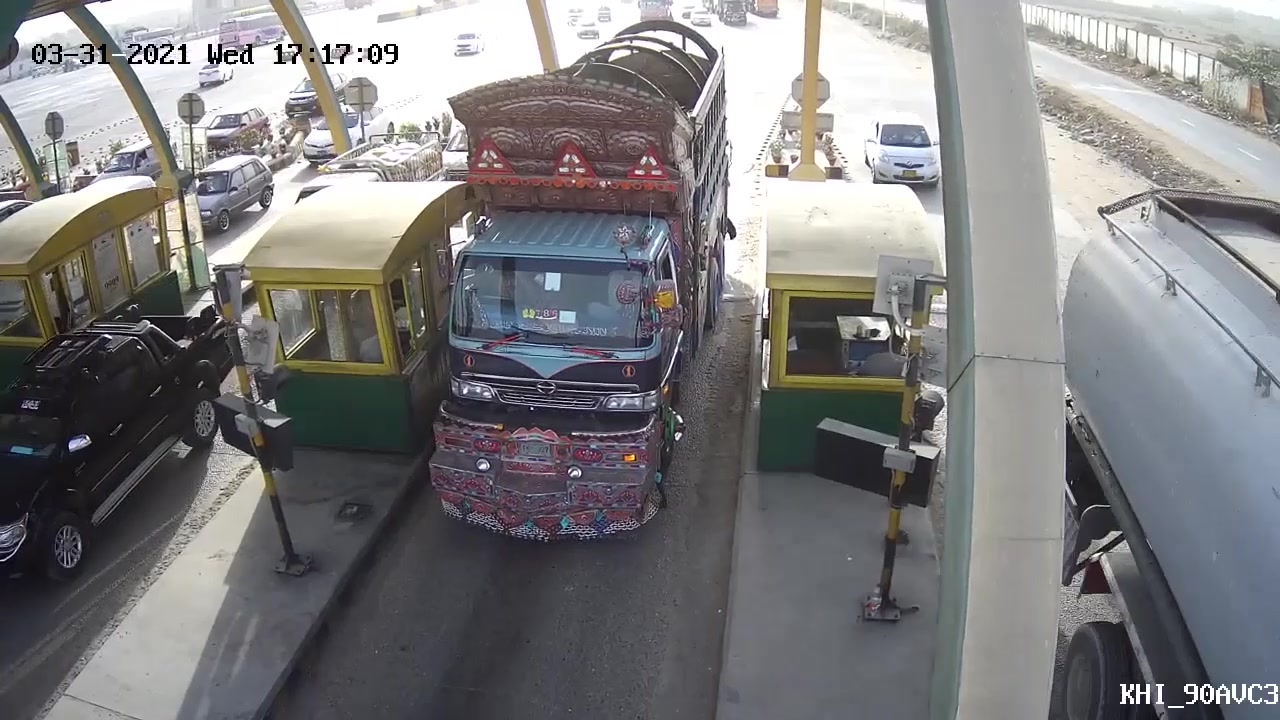F6: (416, 73, 700, 564)
